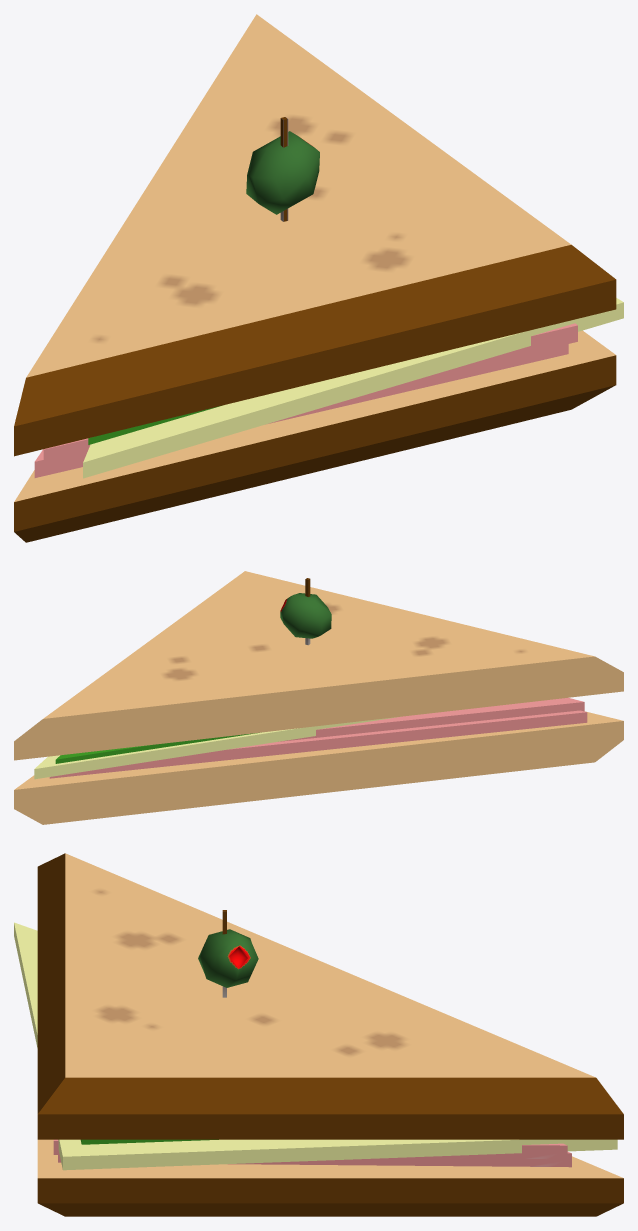
The model's file is Sandwich.obj.
The picture shows the model from 3 angles, top to bottom: view 1: azimuth 30°, elevation 25°; view 2: azimuth 150°, elevation 25°; view 3: azimuth 270°, elevation 25°; orthographic projection. The views are drawn at different scales.
Parts seen in each view (by area): view 1: Sandwich; view 2: Sandwich; view 3: Sandwich.
Boxes of the visible parts, bbox=[...] form: Sandwich: bbox=[14, 14, 623, 542]; Sandwich: bbox=[14, 571, 623, 824]; Sandwich: bbox=[14, 853, 623, 1216].
Bounding box in the file's own units: 1.04 × 0.4267 × 1.04.
Materials: 1 (1 with a texture image).
